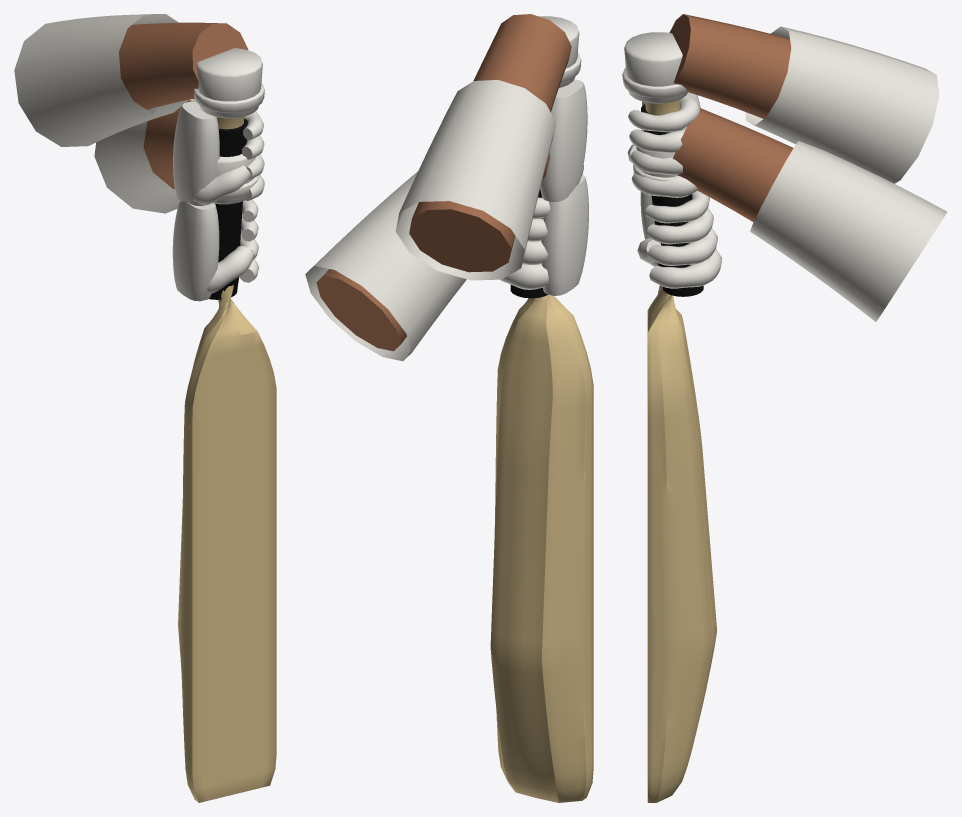
File: viewmodel.glb
The picture shows the model from 3 angles, left to right: view 1: azimuth 30°, elevation 25°; view 2: azimuth 150°, elevation 25°; view 3: azimuth 270°, elevation 25°; orthographic projection. The views are drawn at different scales.
Parts seen in each view (by area): view 1: Bat, Forearm_Top_Sleeve, Glove_Top, Forearm_Top, Glove_Bottom, Forearm_Bottom_Sleeve, Forearm_Bottom; view 2: Bat, Forearm_Top_Sleeve, Forearm_Top, Forearm_Bottom_Sleeve, Glove_Bottom, Glove_Top, Forearm_Bottom; view 3: Bat, Forearm_Bottom_Sleeve, Forearm_Top_Sleeve, Forearm_Top, Glove_Top, Forearm_Bottom, Glove_Bottom.
Part boxes in pixels (box(x1,y1,x2,y2)): Bat: box(178, 116, 276, 802); Forearm_Top_Sleeve: box(14, 14, 188, 146); Glove_Top: box(173, 48, 264, 206); Forearm_Top: box(119, 22, 248, 109); Glove_Bottom: box(172, 154, 259, 301); Forearm_Bottom_Sleeve: box(94, 99, 195, 213); Forearm_Bottom: box(143, 100, 195, 189); Bat: box(490, 189, 593, 802); Forearm_Top_Sleeve: box(395, 80, 555, 280); Forearm_Top: box(409, 14, 571, 272); Forearm_Bottom_Sleeve: box(305, 171, 466, 361); Glove_Bottom: box(500, 174, 588, 295); Glove_Top: box(539, 16, 587, 201); Forearm_Bottom: box(316, 152, 550, 351); Bat: box(641, 99, 716, 802); Forearm_Bottom_Sleeve: box(750, 141, 947, 321); Forearm_Top_Sleeve: box(745, 26, 939, 183); Forearm_Top: box(669, 14, 791, 118); Glove_Top: box(622, 32, 700, 197); Forearm_Bottom: box(673, 108, 793, 222); Glove_Bottom: box(633, 129, 721, 288).
Bounding box in the file's own units: 0.26 × 0.9255 × 0.3558.
